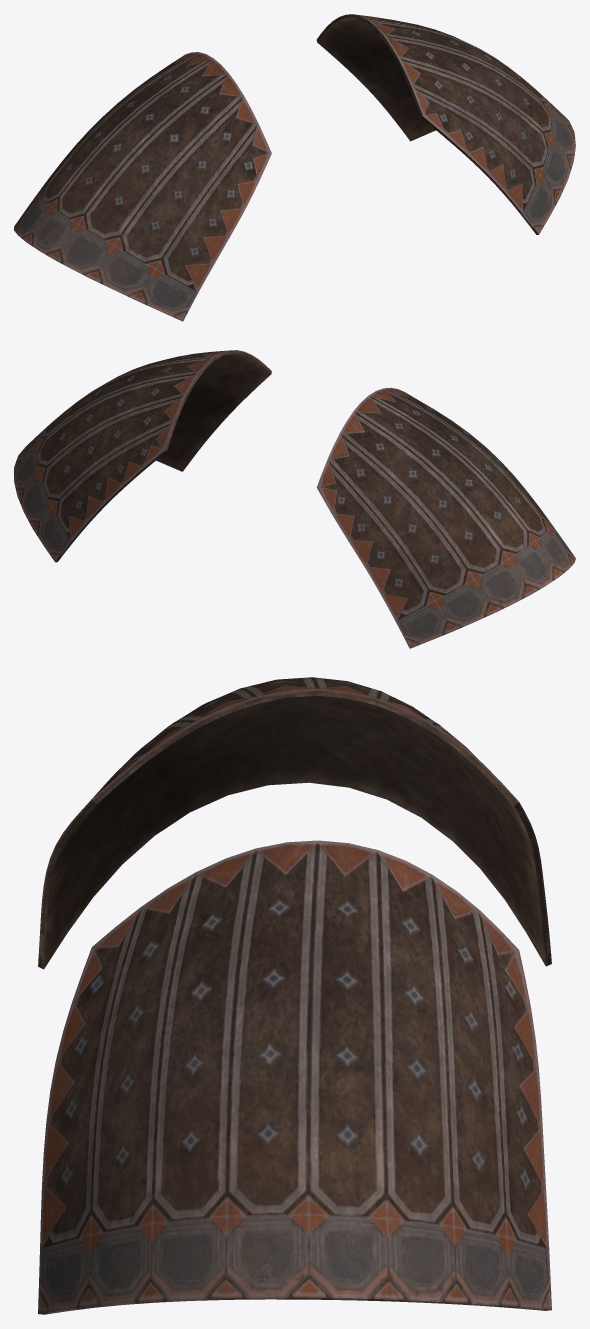
Rendered from sk_dwarf_dain_pauldron_med_a.fbx.
The picture shows the model from 3 angles, top to bottom: view 1: azimuth 30°, elevation 25°; view 2: azimuth 150°, elevation 25°; view 3: azimuth 270°, elevation 25°; orthographic projection. The views are drawn at different scales.
Visible parts, largest first — view 1: sk_dwarf_dain_pauldron_med_a; view 2: sk_dwarf_dain_pauldron_med_a; view 3: sk_dwarf_dain_pauldron_med_a.
Part boxes in pixels (x1,y1,x2,y2): sk_dwarf_dain_pauldron_med_a: [14, 14, 575, 321]; sk_dwarf_dain_pauldron_med_a: [14, 350, 575, 648]; sk_dwarf_dain_pauldron_med_a: [38, 677, 551, 1314].
Size of the model in its own units: 0.7326 by 0.3054 by 0.2474.
Materials: 1 (1 with a texture image).
